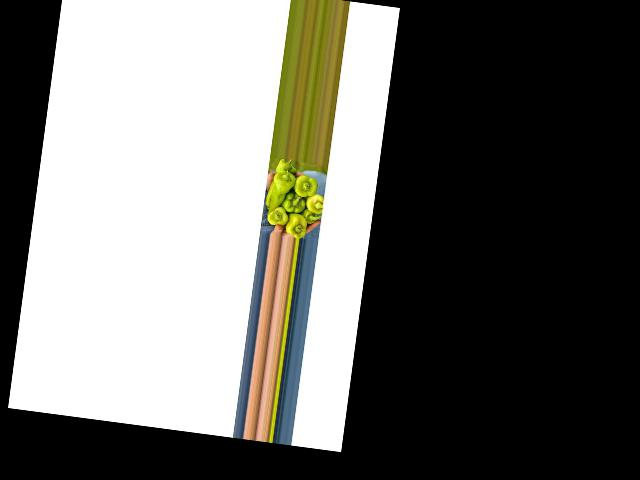bell_pepper: (286, 211, 310, 238)
